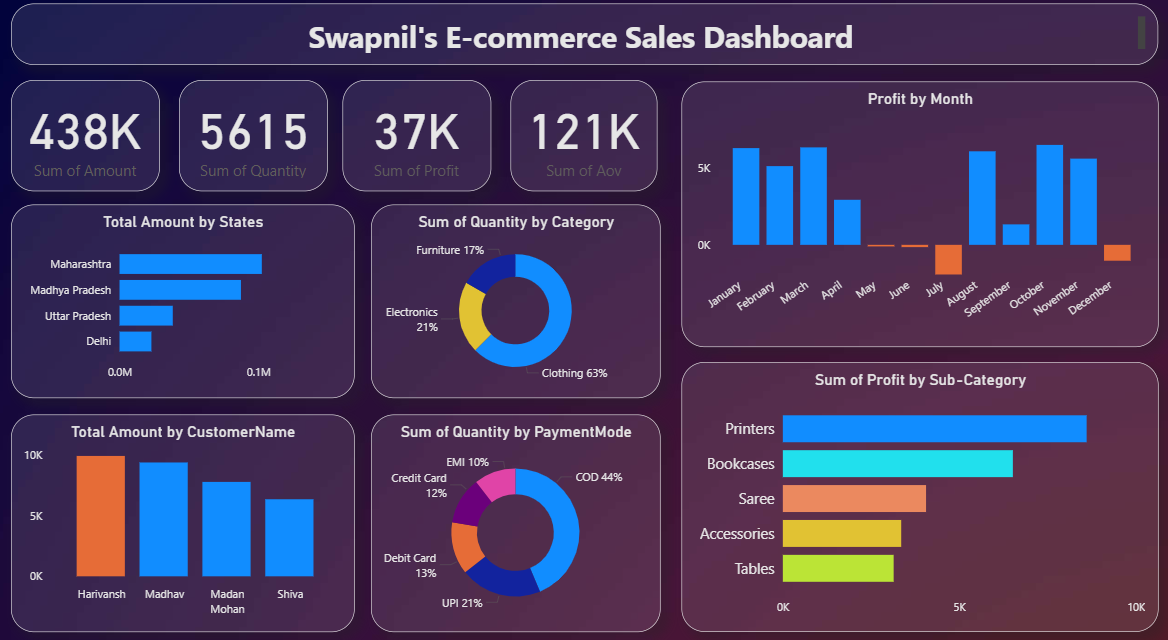

The page's visual inventory and layout, read from the dashboard file:
{"tool":"powerbi","page":{"name":"Page 1","canvas":[1280,720],"ordinal":0},"visuals":[{"type":"textbox","box":[16.3,11.4,1244.3,66.7],"z":0},{"type":"columnChart","title":"Profit by Month","fields":{"Y":["Details.Profit"],"Category":["Orders.Order Date.Variation.Date Hierarchy.Month"]},"box":[743.3,96,517.2,287.9],"z":1000},{"type":"clusteredBarChart","fields":{"Category":["Details.Sub-Category"],"Y":["Details.Profit"]},"box":[743.3,400.1,517.2,292.8],"z":2000},{"type":"donutChart","fields":{"Y":["Details.Quantity"],"Category":["Details.PaymentMode"]},"box":[406.6,457.1,313.9,235.8],"z":3000},{"type":"donutChart","fields":{"Category":["Details.Category"],"Y":["Details.Quantity"]},"box":[406.6,229.3,313.9,209.8],"z":4000},{"type":"card","fields":{"Values":["Details.Amount"]},"box":[16.3,94.3,161,120.4],"z":5000},{"type":"card","fields":{"Values":["Details.Quantity"]},"box":[198.4,94.3,161,120.4],"z":6000},{"type":"card","fields":{"Values":["Details.Profit"]},"box":[375.7,94.3,161,120.4],"z":7000},{"type":"card","fields":{"Values":["Details.Aov"]},"box":[557.9,94.3,159.4,120.4],"z":8000},{"type":"clusteredBarChart","title":"Total Amount by States","fields":{"Category":["Orders.State"],"Y":["Details.Amount"]},"box":[16.3,229.3,372.5,209.8],"z":9000},{"type":"columnChart","title":"Total  Amount by CustomerName","fields":{"Y":["Details.Amount"],"Category":["Orders.CustomerName"]},"box":[16.3,457.1,372.5,235.8],"z":10000}]}

Visuals, with their boxes in screenshot pixels (x1, y1, x2, y2), scaled from the page's 1280x720 canvas onto the 1168x640 screenshot:
textbox: select_region(15, 10, 1150, 69)
"Profit by Month" columnChart: select_region(678, 85, 1150, 341)
clusteredBarChart - Details.Sub-Category x Details.Profit: select_region(678, 356, 1150, 616)
donutChart - Details.Quantity x Details.PaymentMode: select_region(371, 406, 657, 616)
donutChart - Details.Category x Details.Quantity: select_region(371, 204, 657, 390)
card - Details.Amount: select_region(15, 84, 162, 191)
card - Details.Quantity: select_region(181, 84, 328, 191)
card - Details.Profit: select_region(343, 84, 490, 191)
card - Details.Aov: select_region(509, 84, 655, 191)
"Total Amount by States" clusteredBarChart: select_region(15, 204, 355, 390)
"Total  Amount by CustomerName" columnChart: select_region(15, 406, 355, 616)
